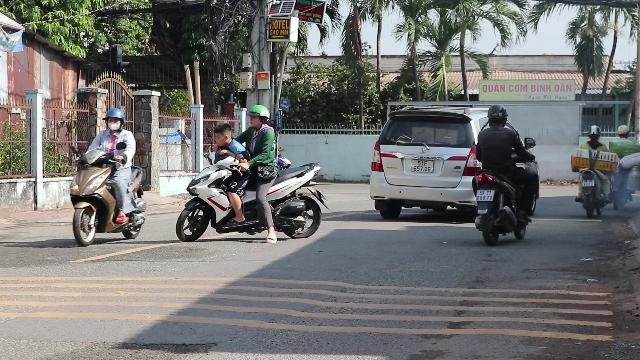helmet: (246, 103, 270, 127), (103, 107, 125, 131), (485, 104, 507, 126)
licenseplate: (476, 190, 494, 200)
motorcyclist: (173, 101, 329, 243), (66, 106, 150, 248), (468, 104, 540, 244)
nohelmet: (212, 121, 234, 149)
